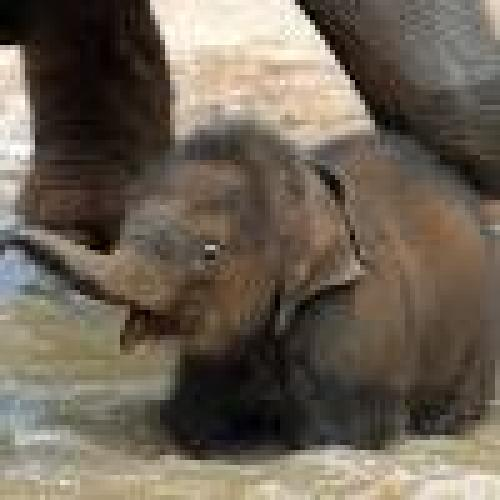asian_elephant-endangered: (0, 115, 485, 445)
